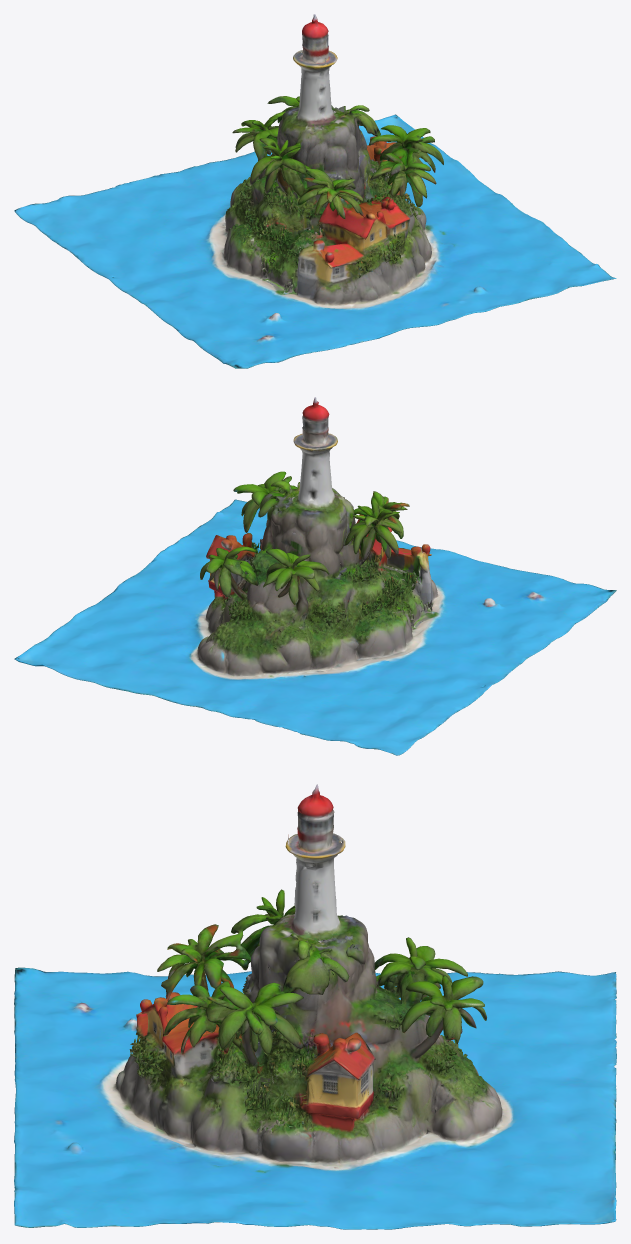
Rendered from island_3.glb.
3 renders of one model, top to bottom at view 1: azimuth 30°, elevation 25°; view 2: azimuth 150°, elevation 25°; view 3: azimuth 270°, elevation 25°, orthographic. The views are drawn at different scales.
Bounding box in the file's own units: 2 × 1.28 × 2.
Materials: 1 (1 with a texture image).
